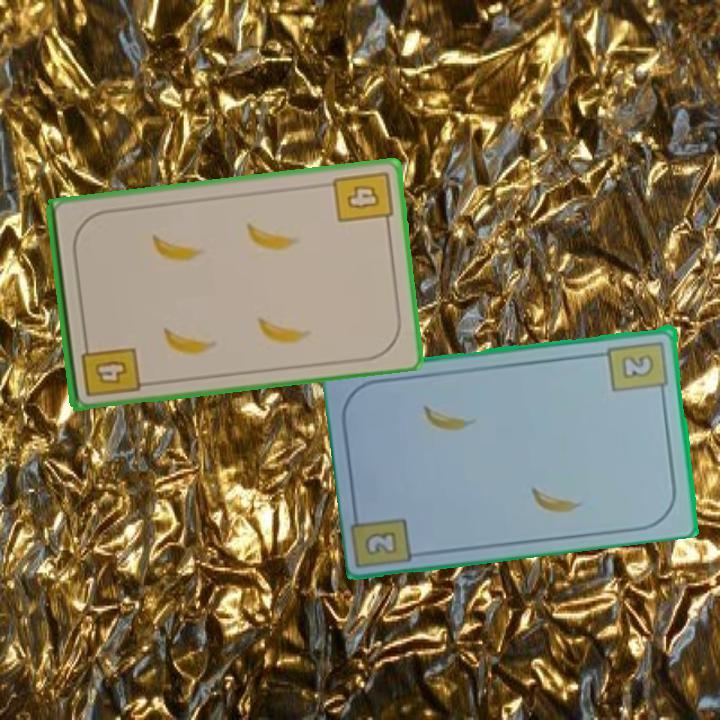2b: (605, 337, 671, 399), (361, 527, 401, 559)
4b: (77, 334, 142, 400), (329, 167, 395, 231)
